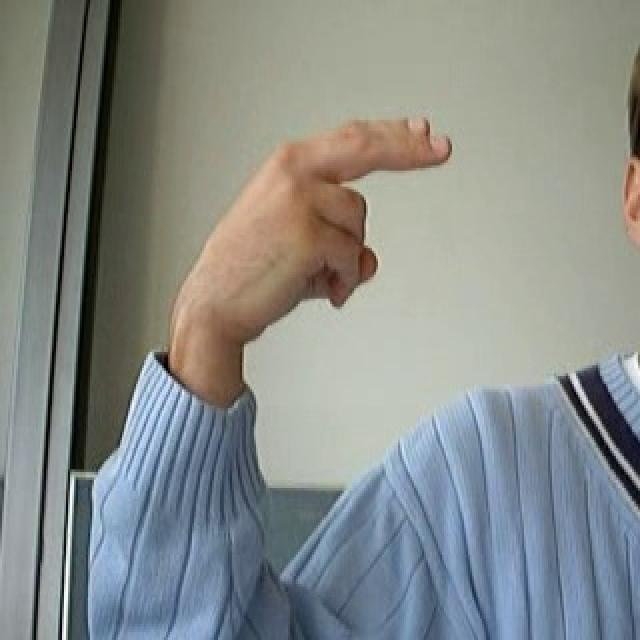H: (162, 101, 472, 344)
